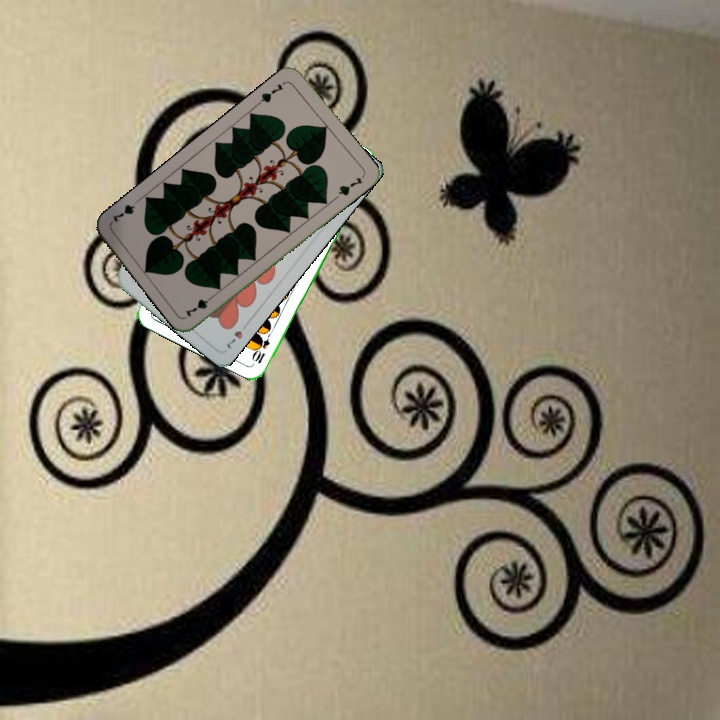E10: (250, 327, 275, 366)
G7: (181, 290, 218, 320), (254, 77, 289, 107)
H7: (222, 318, 252, 352)
